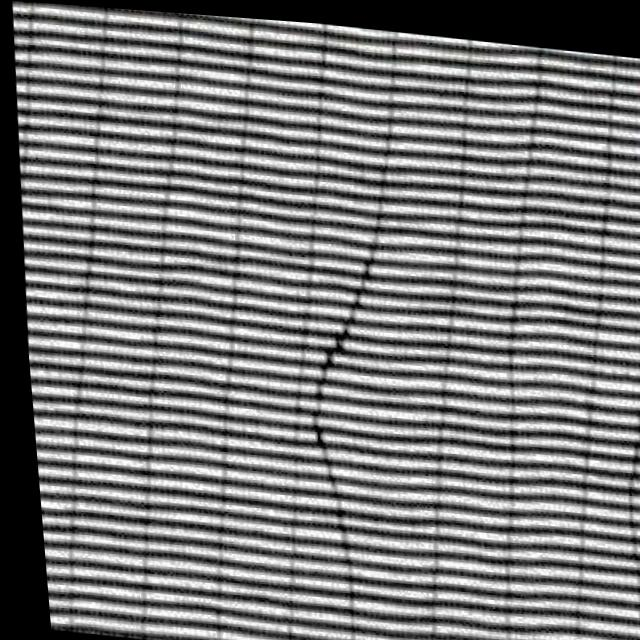Stitch: (268, 181, 424, 520)
